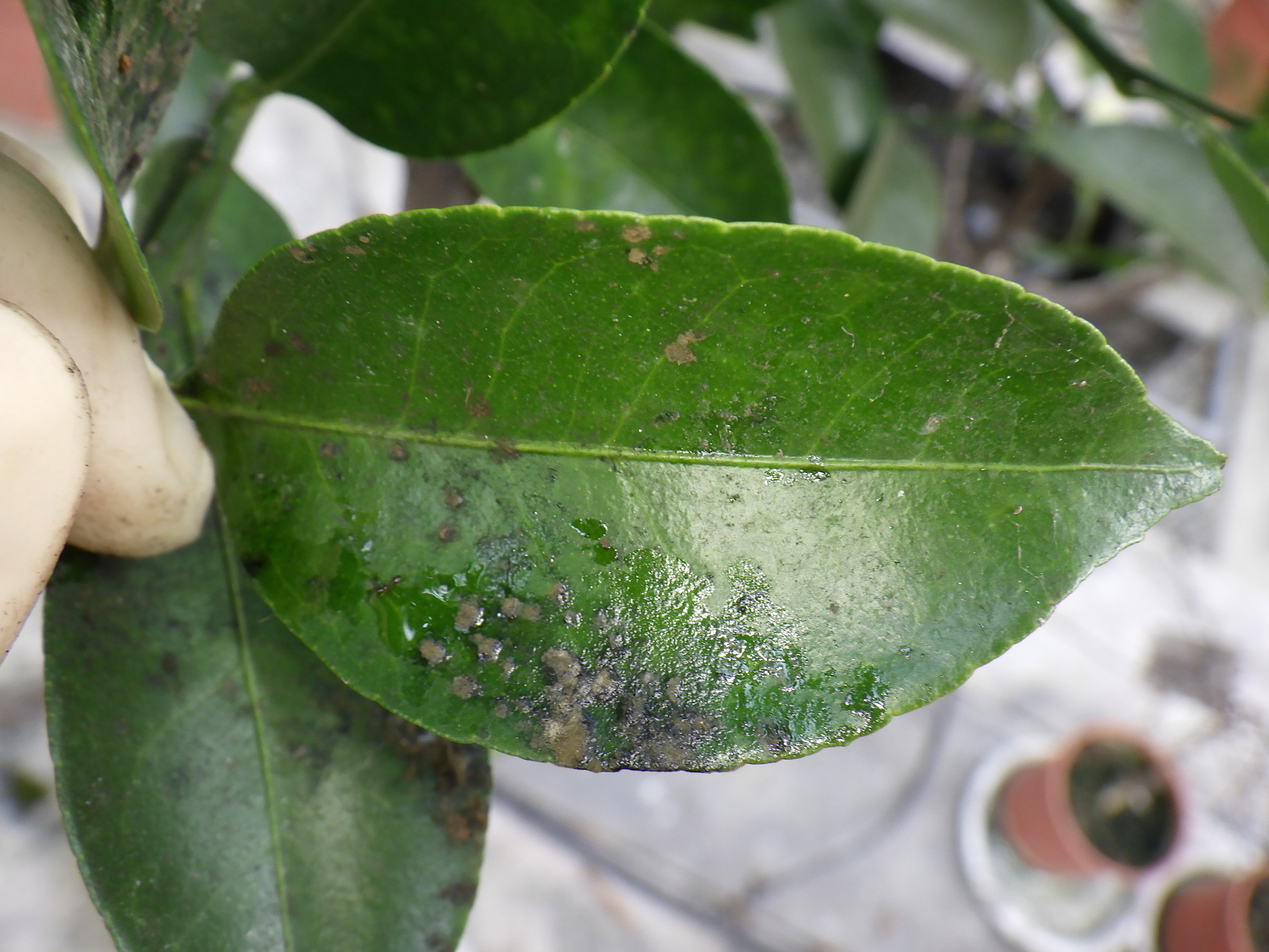Sooty_Mold: (186, 208, 1220, 769)
